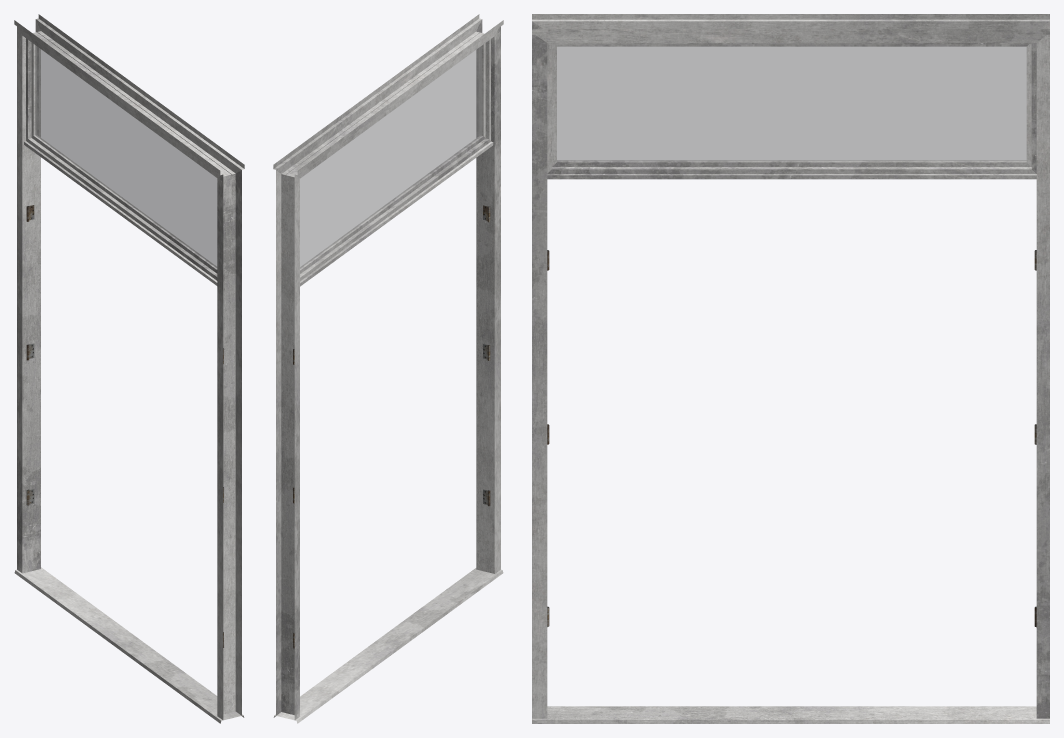
File: DoorPost_Hallway.fbx
3 renders of one model, left to right at view 1: azimuth 30°, elevation 25°; view 2: azimuth 150°, elevation 25°; view 3: azimuth 270°, elevation 25°, orthographic. The views are drawn at different scales.
Visible parts, largest first — view 1: Door_Post_Base_Dubble; view 2: Door_Post_Base_Dubble; view 3: Door_Post_Base_Dubble.
Part boxes in pixels (left/top/right/bottom): Door_Post_Base_Dubble: left=14, top=14, right=244, bottom=723; Door_Post_Base_Dubble: left=273, top=14, right=503, bottom=723; Door_Post_Base_Dubble: left=532, top=14, right=1049, bottom=723.
Size of the model in its own units: 0.1843 by 4 by 2.7.
